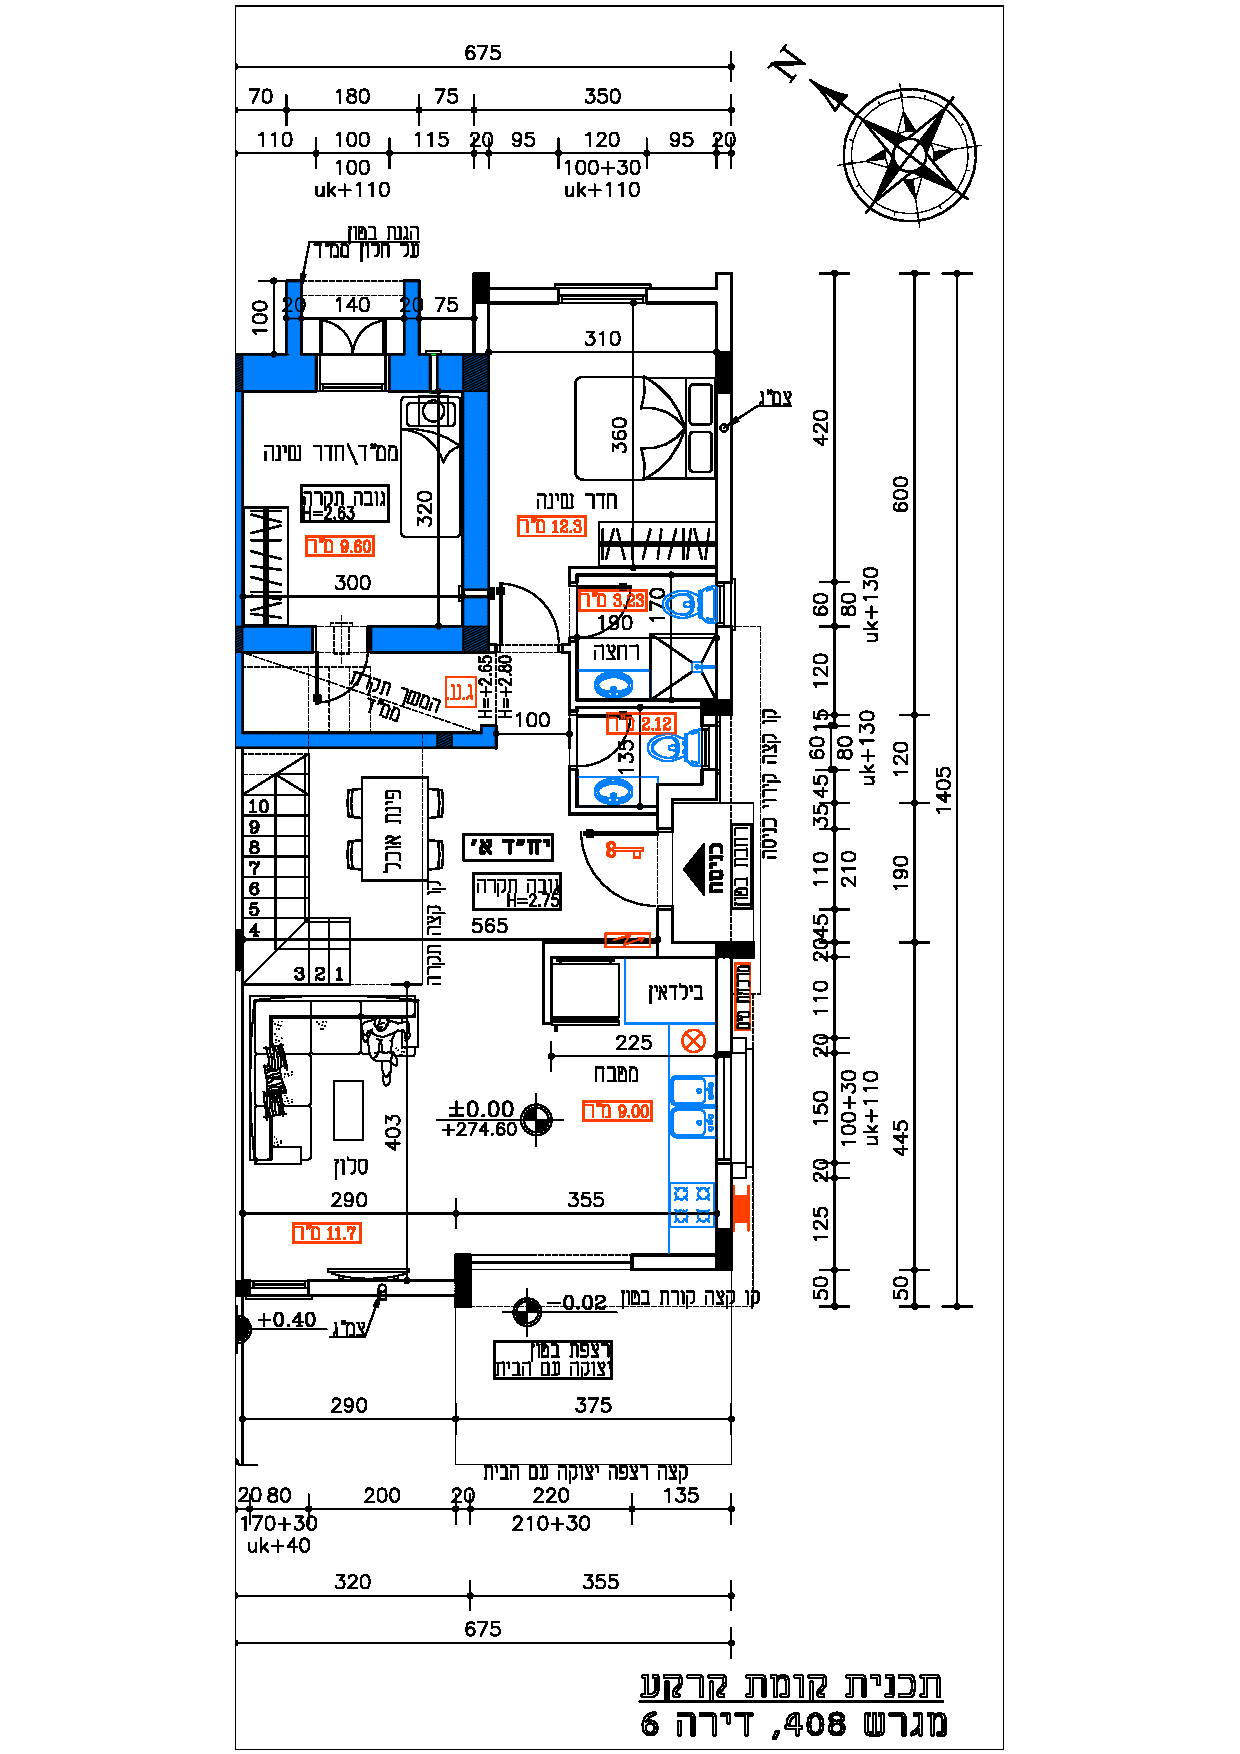door: (497, 578, 568, 641)
